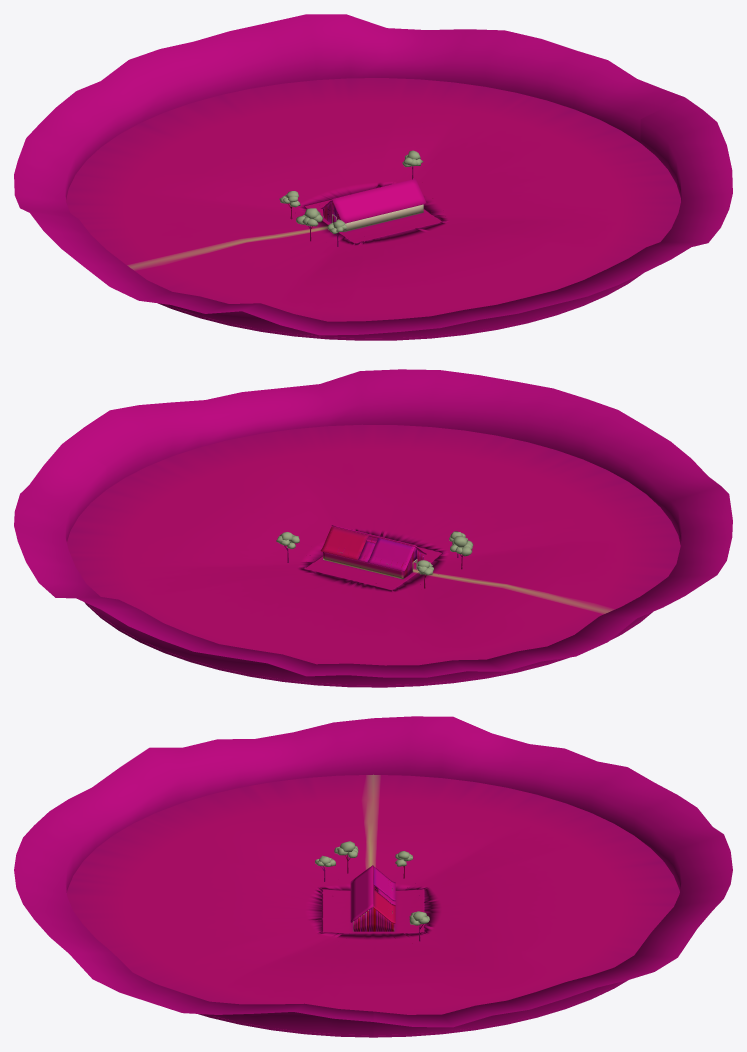
Rendered from court_set_longhouse.glb.
3 renders of one model, top to bottom at view 1: azimuth 30°, elevation 25°; view 2: azimuth 150°, elevation 25°; view 3: azimuth 270°, elevation 25°, orthographic.
Visible parts, largest first — view 1: Ground, Hills, ShadowCaster, Trees; view 2: Ground, Hills, Roof, Trees, Walls; view 3: Ground, Hills, Trees, ShadowCaster, Roof, Gables.
Part boxes in pixels (x1,y1,x2,y2): Ground: [66, 78, 680, 338]; Hills: [14, 14, 732, 340]; ShadowCaster: [331, 178, 426, 232]; Trees: [279, 150, 423, 246]; Ground: [67, 424, 680, 685]; Hills: [14, 369, 732, 687]; Roof: [320, 527, 415, 571]; Trees: [276, 531, 473, 588]; Walls: [323, 552, 403, 579]; Ground: [67, 774, 679, 1035]; Hills: [14, 716, 732, 1037]; Trees: [315, 841, 429, 941]; ShadowCaster: [350, 865, 373, 931]; Roof: [373, 866, 395, 923]; Gables: [353, 869, 393, 931].
Size of the model in its own units: 140 by 11.17 by 140.
